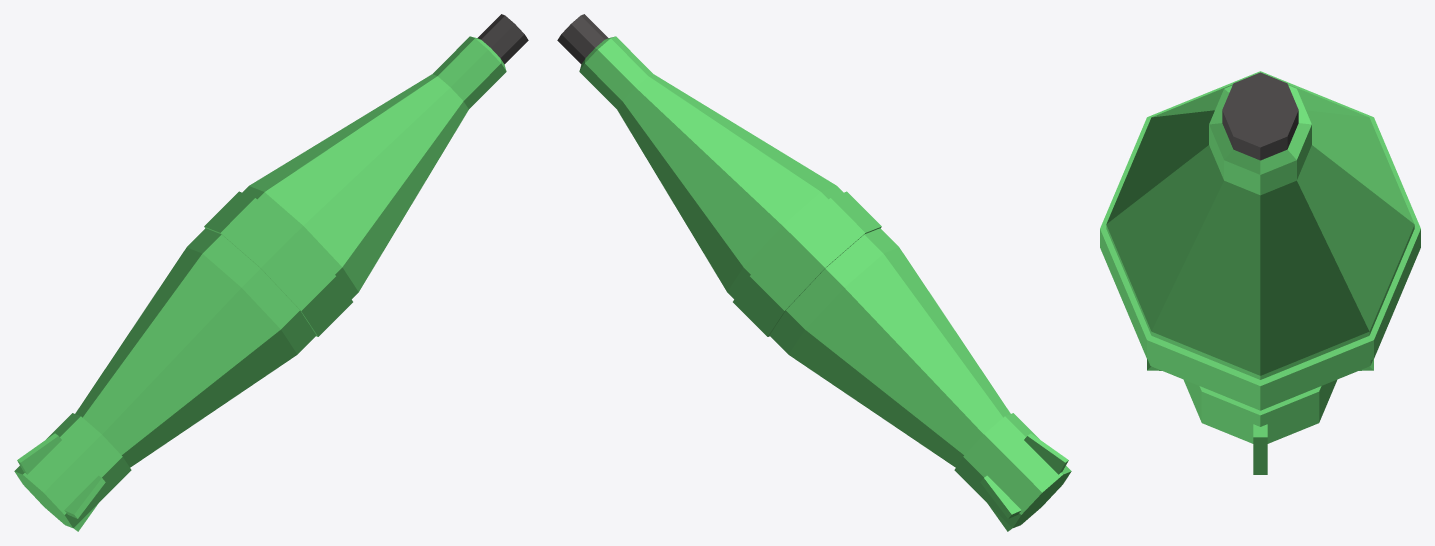
Rendered from animal_company_-_rpg_ammo.glb.
3 views of the same model, side by side, from view 1: azimuth 30°, elevation 25°; view 2: azimuth 150°, elevation 25°; view 3: azimuth 270°, elevation 25° (orthographic). The views are drawn at different scales.
Parts seen in each view (by area): view 1: Rocket_1_6; view 2: Rocket_1_6; view 3: Rocket_1_6.
Boxes of the visible parts, box(x1,y1,x2,y2) form: Rocket_1_6: box(14, 14, 528, 531); Rocket_1_6: box(557, 14, 1071, 531); Rocket_1_6: box(1100, 71, 1420, 474).
Size of the model in its own units: 0.4531 by 0.3512 by 0.1244.
